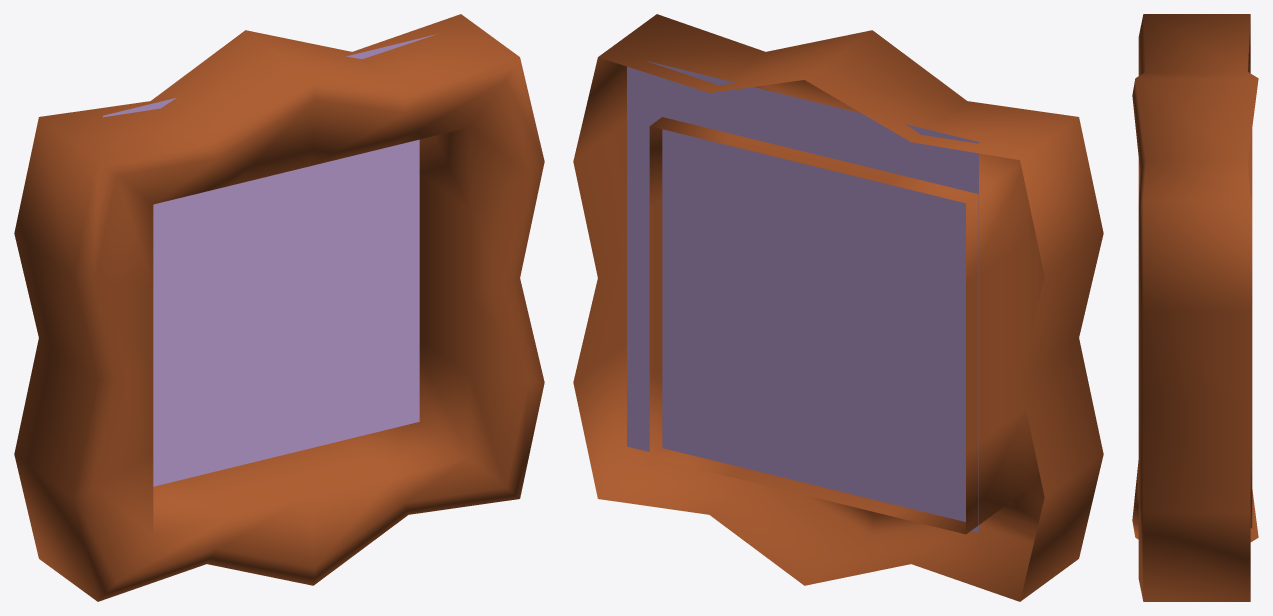
The model's file is props_wall_painting_frame_7.fbx.
3 views of the same model, side by side, from view 1: azimuth 30°, elevation 25°; view 2: azimuth 150°, elevation 25°; view 3: azimuth 270°, elevation 25° (orthographic). The views are drawn at different scales.
Parts seen in each view (by area): view 1: Cube.108; view 2: Cube.108; view 3: Cube.108.
Boxes of the visible parts, box(x1,y1,x2,y2) form: Cube.108: box(14, 14, 544, 601); Cube.108: box(573, 14, 1103, 601); Cube.108: box(1132, 14, 1258, 601).
Bounding box in the file's own units: 80.71 × 82.78 × 20.63.
